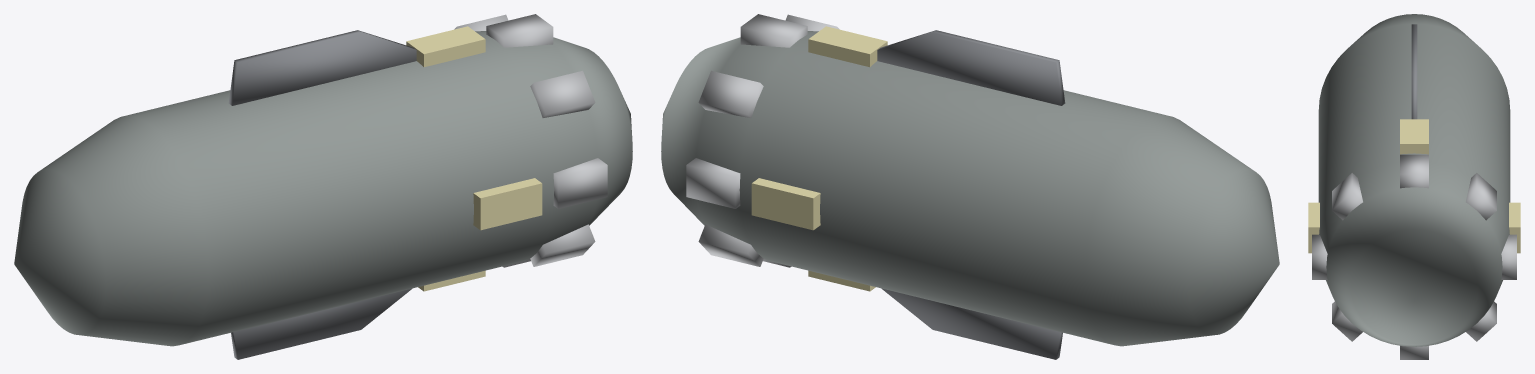
File: UK_MINE_SeaUrchin_LOD0.fbx
The picture shows the model from 3 angles, left to right: view 1: azimuth 30°, elevation 25°; view 2: azimuth 150°, elevation 25°; view 3: azimuth 270°, elevation 25°; orthographic projection. The views are drawn at different scales.
Visible parts, largest first — view 1: WPN_UK_MINE_SeaUrchin_LOD0_Body, WPN_UK_MINE_SeaUrchin_LOD0_Detail, WPN_UK_MINE_SeaUrchin_LOD0_Marking; view 2: WPN_UK_MINE_SeaUrchin_LOD0_Body, WPN_UK_MINE_SeaUrchin_LOD0_Detail, WPN_UK_MINE_SeaUrchin_LOD0_Marking; view 3: WPN_UK_MINE_SeaUrchin_LOD0_Body, WPN_UK_MINE_SeaUrchin_LOD0_Detail, WPN_UK_MINE_SeaUrchin_LOD0_Marking.
Part boxes in pixels (x1,y1,x2,y2): WPN_UK_MINE_SeaUrchin_LOD0_Body: (14, 31, 632, 346); WPN_UK_MINE_SeaUrchin_LOD0_Detail: (228, 14, 607, 359); WPN_UK_MINE_SeaUrchin_LOD0_Marking: (406, 26, 542, 291); WPN_UK_MINE_SeaUrchin_LOD0_Body: (661, 31, 1279, 346); WPN_UK_MINE_SeaUrchin_LOD0_Detail: (686, 14, 1065, 359); WPN_UK_MINE_SeaUrchin_LOD0_Marking: (751, 26, 887, 291); WPN_UK_MINE_SeaUrchin_LOD0_Body: (1318, 14, 1510, 346); WPN_UK_MINE_SeaUrchin_LOD0_Detail: (1312, 24, 1516, 359); WPN_UK_MINE_SeaUrchin_LOD0_Marking: (1308, 119, 1520, 253).
Size of the model in its own units: 1.6 by 0.5883 by 0.7367.
